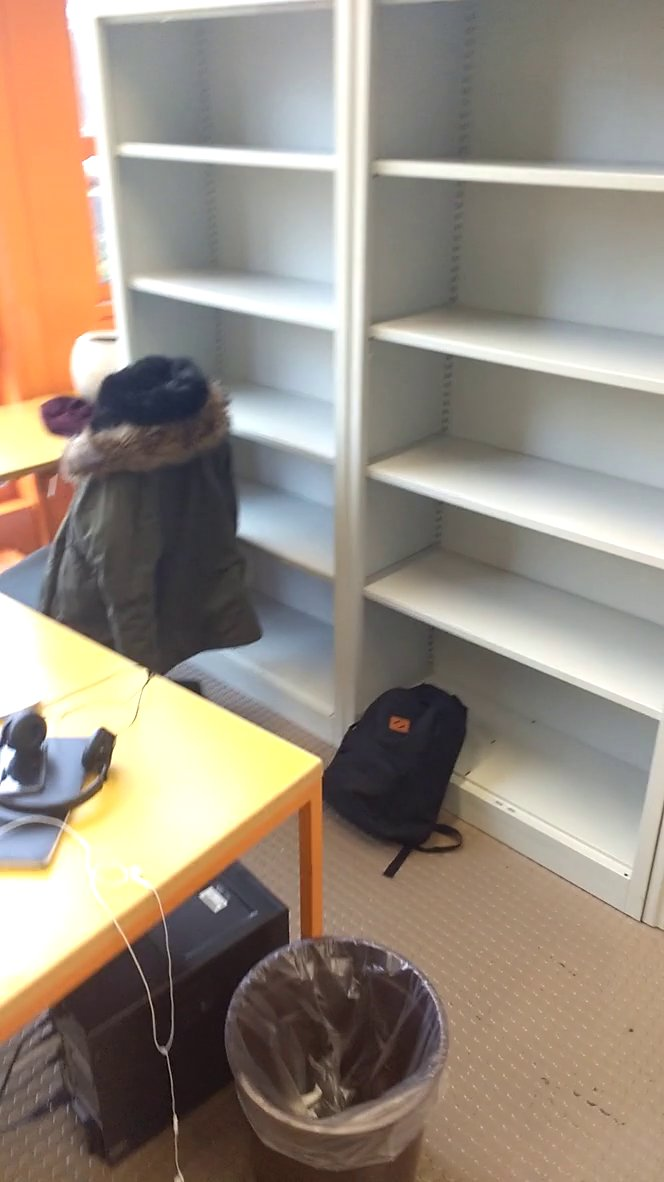bag: (315, 668, 474, 875)
bin: (218, 916, 457, 1182)
